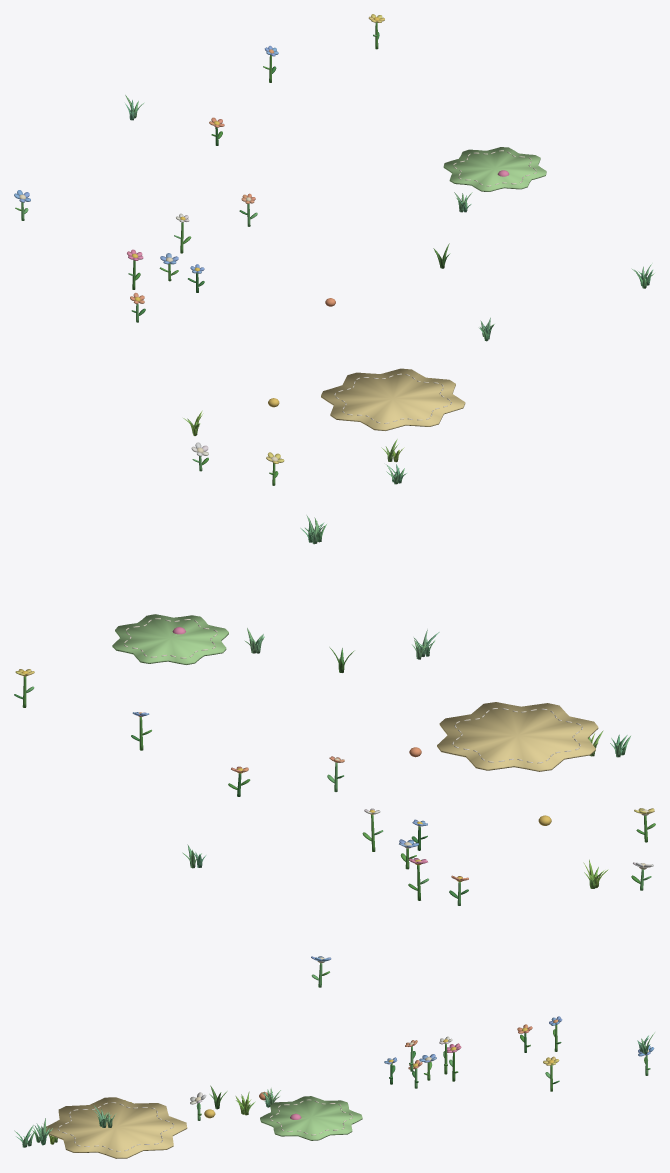
Rendered from W3_FloraRing_12_9.fbx.
The picture shows the model from 3 angles, top to bottom: view 1: azimuth 30°, elevation 25°; view 2: azimuth 150°, elevation 25°; view 3: azimuth 270°, elevation 25°; orthographic projection. The views are drawn at different scales.
Visible parts, largest first — view 1: W3_FloraRing_12_9; view 2: W3_FloraRing_12_9; view 3: W3_FloraRing_12_9.
Boxes of the visible parts, bbox=[...] form: W3_FloraRing_12_9: bbox=[14, 14, 654, 485]; W3_FloraRing_12_9: bbox=[14, 515, 655, 987]; W3_FloraRing_12_9: bbox=[14, 1016, 654, 1158].
Size of the model in its own units: 2.58 by 1.44 by 3.61.
